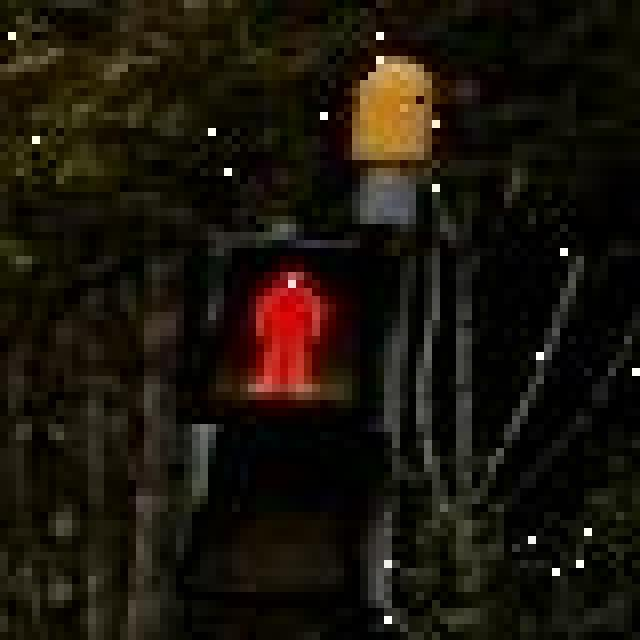redlight: (160, 232, 400, 624)
